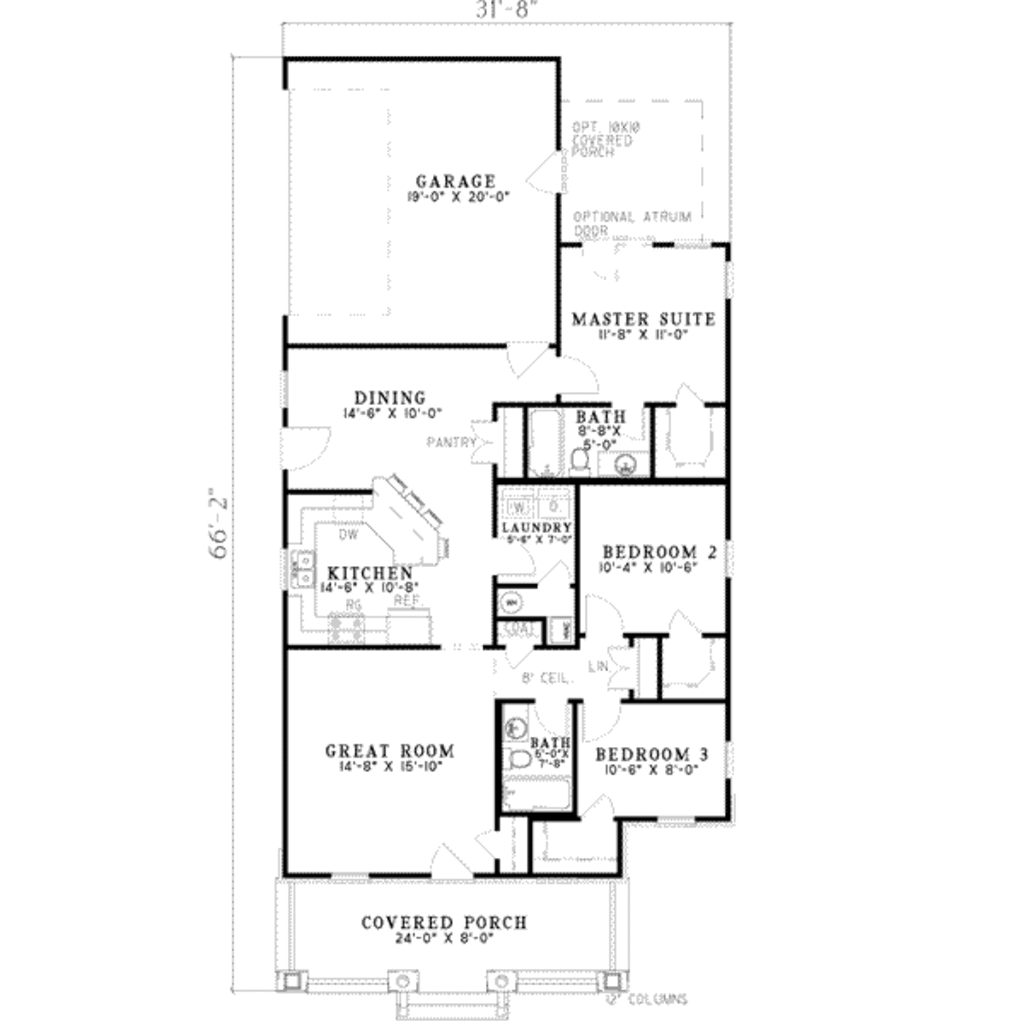door: (276, 424, 342, 477), (525, 134, 573, 201), (493, 331, 556, 378), (482, 525, 535, 580), (659, 360, 707, 413), (581, 699, 634, 747), (426, 842, 479, 890), (551, 350, 602, 397), (541, 537, 582, 594), (574, 783, 623, 826), (576, 597, 636, 631), (526, 696, 569, 739), (463, 415, 496, 466), (611, 639, 643, 688), (606, 404, 646, 443), (666, 611, 705, 643), (473, 826, 506, 863)
kitchen_bar: (350, 461, 453, 575)
large_sink: (556, 433, 598, 482), (492, 744, 542, 777)
small_sink: (597, 446, 655, 479), (496, 706, 530, 747)
tub: (527, 406, 565, 481)
twin_sink: (282, 544, 325, 596)
window: (716, 251, 747, 310), (711, 531, 741, 585), (314, 866, 376, 886), (722, 730, 737, 786), (655, 816, 701, 831)
